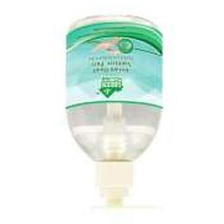aerosol_cans: (61, 10, 169, 214)
